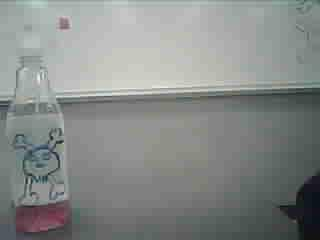hazard: (0, 14, 76, 238)
